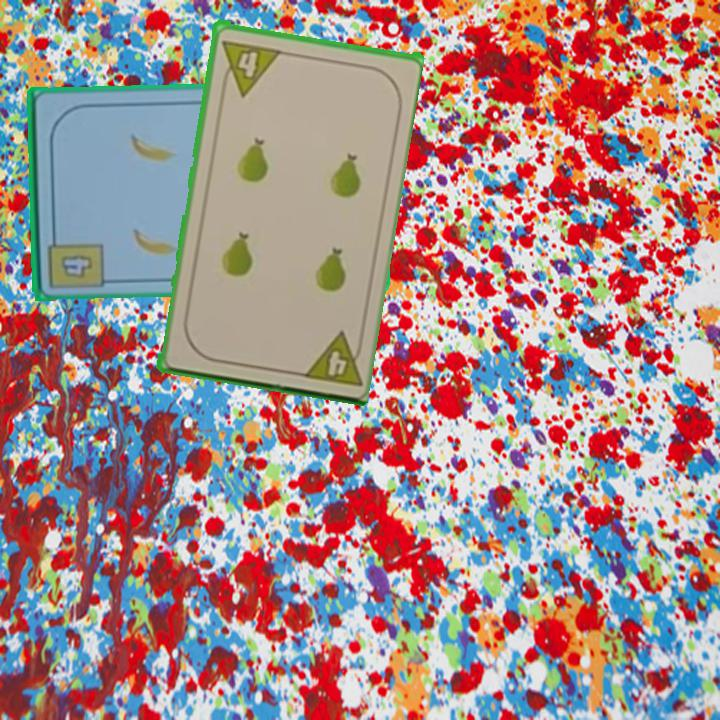4b: (58, 251, 96, 281)
4p: (296, 327, 367, 390), (217, 36, 282, 98)
